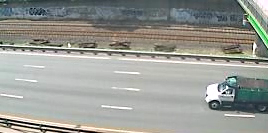car: (203, 73, 268, 118)
